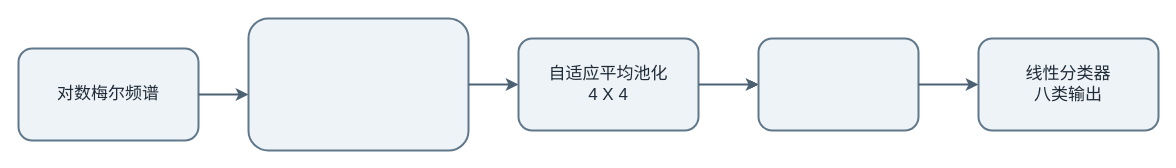
Some shapes in this 1176 by 168 pixel diagram are drawn without their labels. Each missing label, with the centre of its shape:
卷积块 * 4 3X3 卷积 批归一化 + 激活 二乘二最大池化: pixel 358 84
展平 + 丢弃层: pixel 838 84
